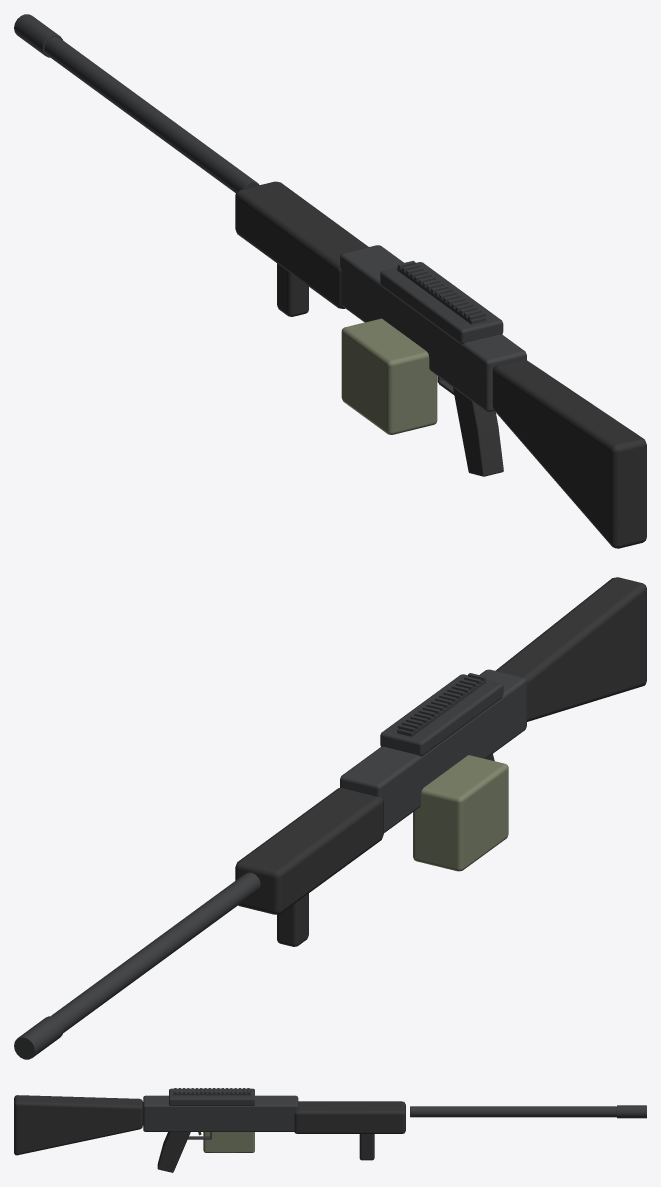
3 views of the same model, one above another, from view 1: azimuth 30°, elevation 25°; view 2: azimuth 150°, elevation 25°; view 3: azimuth 270°, elevation 25° (orthographic). The views are drawn at different scales.
Parts seen in each view (by area): view 1: Stock, Receiver, AmmoBox, Handguard, Barrel, FeedCover, Grip, TopRail_teeth, ForeGrip, FlashHider; view 2: Stock, Handguard, Receiver, AmmoBox, Barrel, FeedCover, TopRail_teeth, FlashHider, ForeGrip; view 3: Stock, Receiver, Handguard, Barrel, FeedCover, AmmoBox, Grip, ForeGrip, FlashHider, TopRail, TopRail_teeth.
Boxes of the visible parts, x1,y1,x2,y2 form: Stock: (492,359,646,548); Receiver: (340,245,526,411); AmmoBox: (341,318,437,434); Handguard: (235,181,368,308); Barrel: (44,37,259,192); FeedCover: (380,262,503,343); Grip: (453,387,503,476); TopRail_teeth: (398,260,485,319); ForeGrip: (277,263,308,316); FlashHider: (14,14,62,57); Stock: (495,577,646,721); Handguard: (235,788,383,914); Receiver: (340,669,526,832); AmmoBox: (413,755,508,871); Barrel: (51,872,260,1032); FeedCover: (380,674,503,756); TopRail_teeth: (398,673,485,732); FlashHider: (14,1016,63,1059); ForeGrip: (277,893,308,946); Stock: (14,1095,143,1155); Receiver: (143,1095,298,1131); Handguard: (294,1101,405,1133); Barrel: (410,1106,616,1117); FeedCover: (169,1088,254,1105); AmmoBox: (203,1132,254,1152); Grip: (157,1132,190,1172); ForeGrip: (359,1134,374,1160); FlashHider: (617,1105,646,1118); TopRail: (173,1090,250,1095); TopRail_teeth: (174,1088,249,1093).
Size of the model in its own units: 0.1175 by 0.2061 by 1.47.
